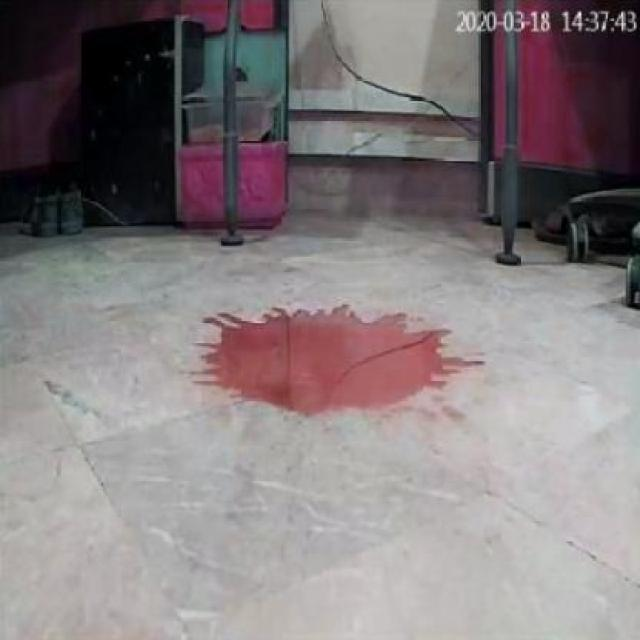spillage: (210, 311, 451, 420)
